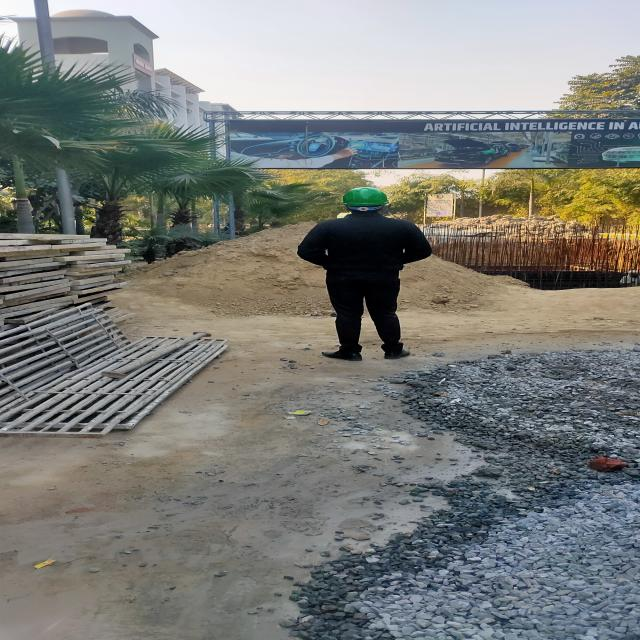no jacket: (285, 183, 442, 360)
